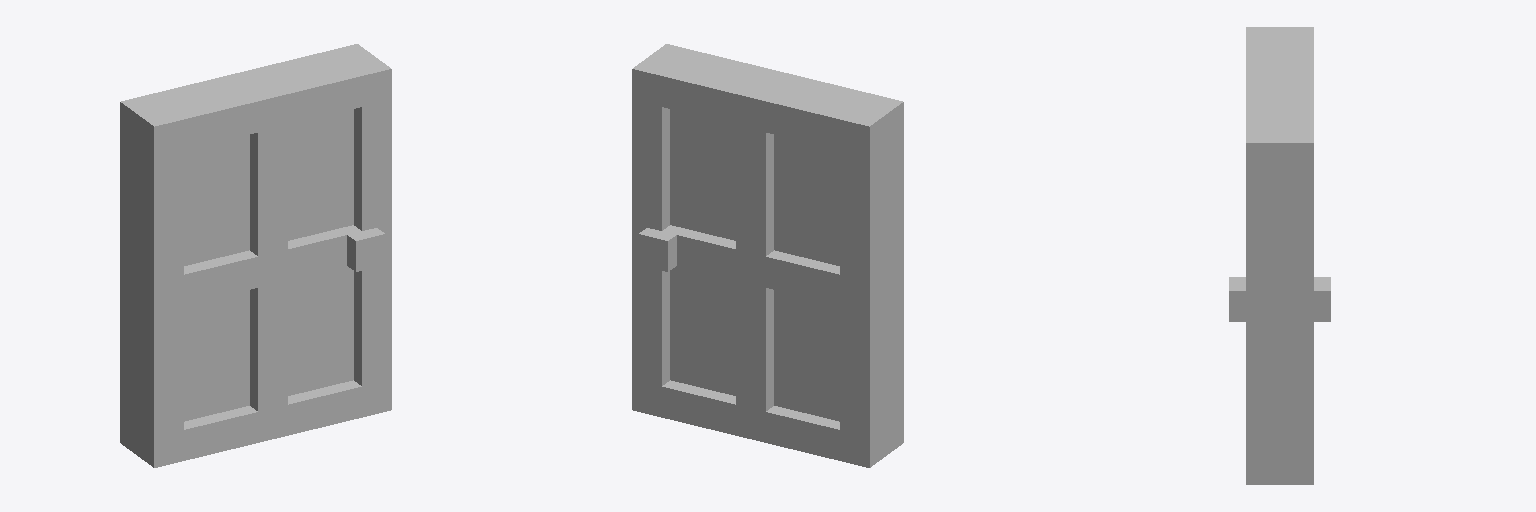
Rendered from door.obj.
3 renders of one model, left to right at view 1: azimuth 30°, elevation 25°; view 2: azimuth 150°, elevation 25°; view 3: azimuth 270°, elevation 25°, orthographic.
Visible parts, largest first — view 1: object 1; view 2: object 1; view 3: object 1.
Part boxes in pixels (x1,y1,x2,y2): object 1: (120,44,391,467); object 1: (632,44,903,467); object 1: (1229,27,1330,484).
Size of the model in its own units: 1.6 by 2.2 by 0.6.